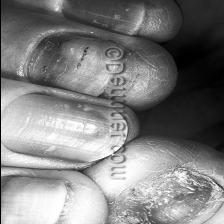Toxin: (112, 162, 224, 224)
